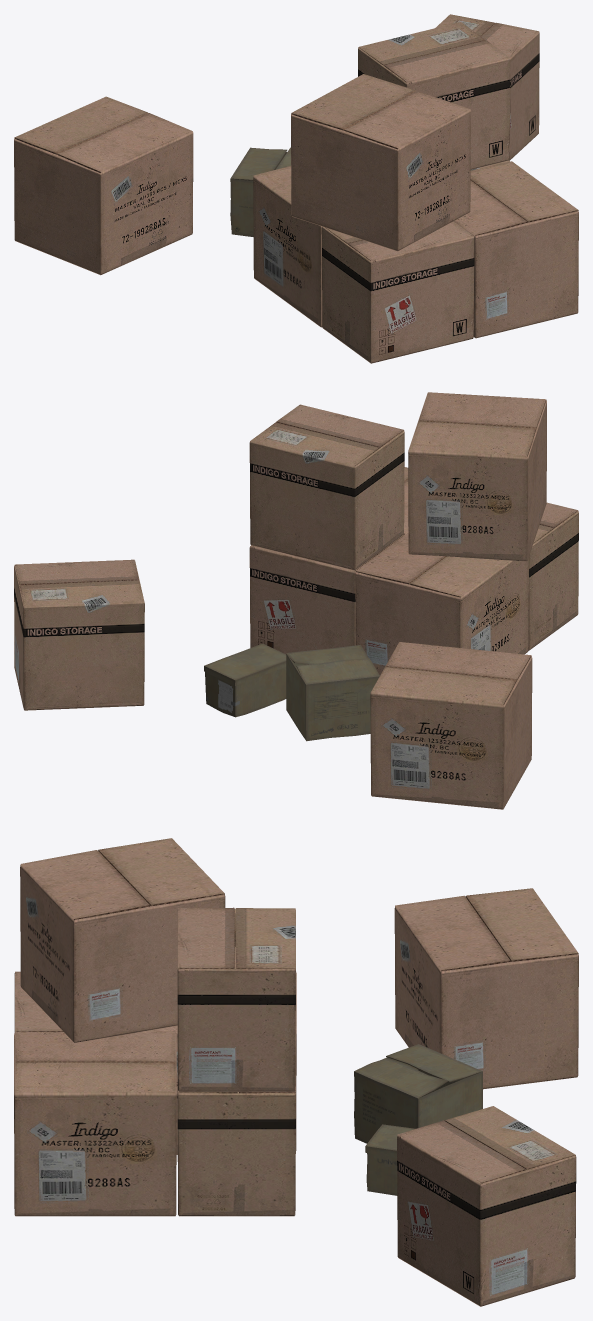
File: boxes-indigo.fbx
3 views of the same model, one above another, from view 1: azimuth 30°, elevation 25°; view 2: azimuth 150°, elevation 25°; view 3: azimuth 270°, elevation 25° (orthographic). The views are drawn at different scales.
Parts seen in each view (by area): view 1: SM_Boxes_02a.001, SM_Boxes_03a.001, SM_Boxes_04a.001, SM_cardboards_03.001; view 2: SM_Boxes_02a.001, SM_Boxes_03a.001, SM_Boxes_04a.001, SM_cardboards_03.001, SM_cardboards_01.001; view 3: SM_Boxes_02a.001, SM_Boxes_03a.001, SM_Boxes_04a.001, SM_cardboards_03.001, SM_cardboards_01.001.
Part boxes in pixels (bbox=[...]): SM_Boxes_02a.001: bbox=[253, 22, 578, 363]; SM_Boxes_03a.001: bbox=[14, 96, 193, 275]; SM_Boxes_04a.001: bbox=[435, 14, 539, 160]; SM_cardboards_03.001: bbox=[230, 147, 291, 236]; SM_Boxes_02a.001: bbox=[249, 392, 578, 675]; SM_Boxes_03a.001: bbox=[370, 642, 532, 809]; SM_Boxes_04a.001: bbox=[14, 559, 144, 710]; SM_cardboards_03.001: bbox=[286, 645, 379, 741]; SM_cardboards_01.001: bbox=[204, 643, 286, 717]; SM_Boxes_02a.001: bbox=[14, 838, 296, 1216]; SM_Boxes_03a.001: bbox=[394, 888, 578, 1089]; SM_Boxes_04a.001: bbox=[397, 1106, 576, 1306]; SM_cardboards_03.001: bbox=[354, 1044, 482, 1143]; SM_cardboards_01.001: bbox=[365, 1124, 415, 1195].
Size of the model in its own units: 26849 by 10579 by 21693.
